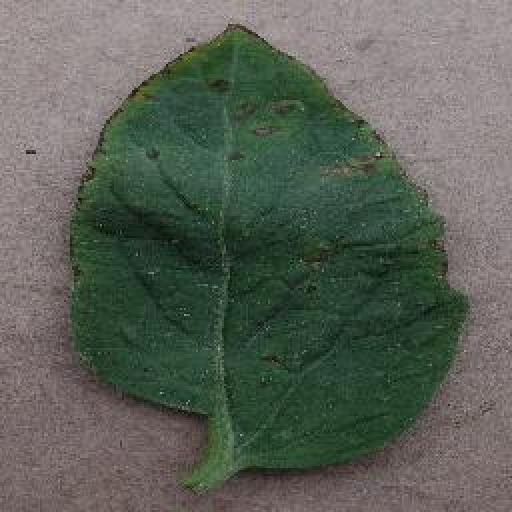Bacterial Spot: (68, 16, 473, 476)
